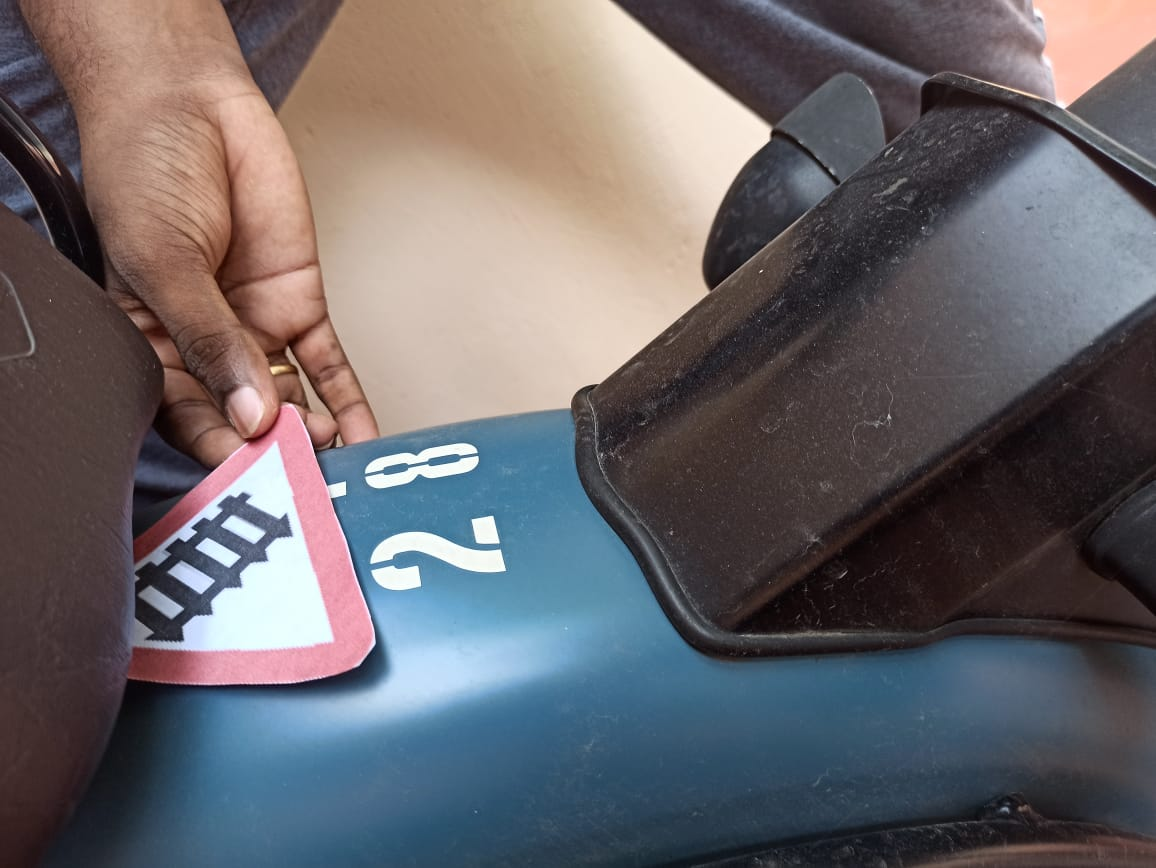GUARDED LEVEL CROSSING: (87, 402, 397, 691)
